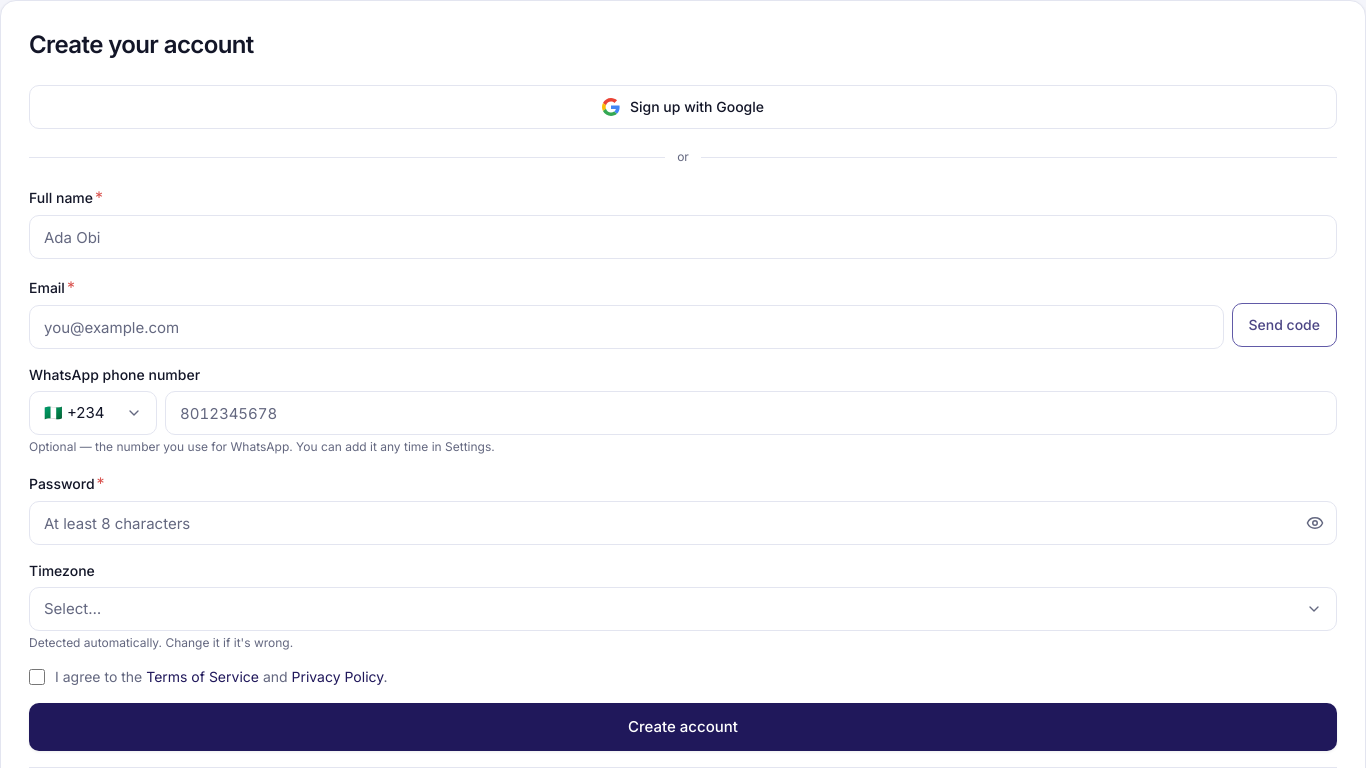
Test case: Register › Google sign-up surfaces an honest error when OAuth isn't configured (no fake sign-up)
This screenshot has width=1366, height=768.
Click the button "Sign up with Google".
click(683, 107)  # box [29,85,1337,129]
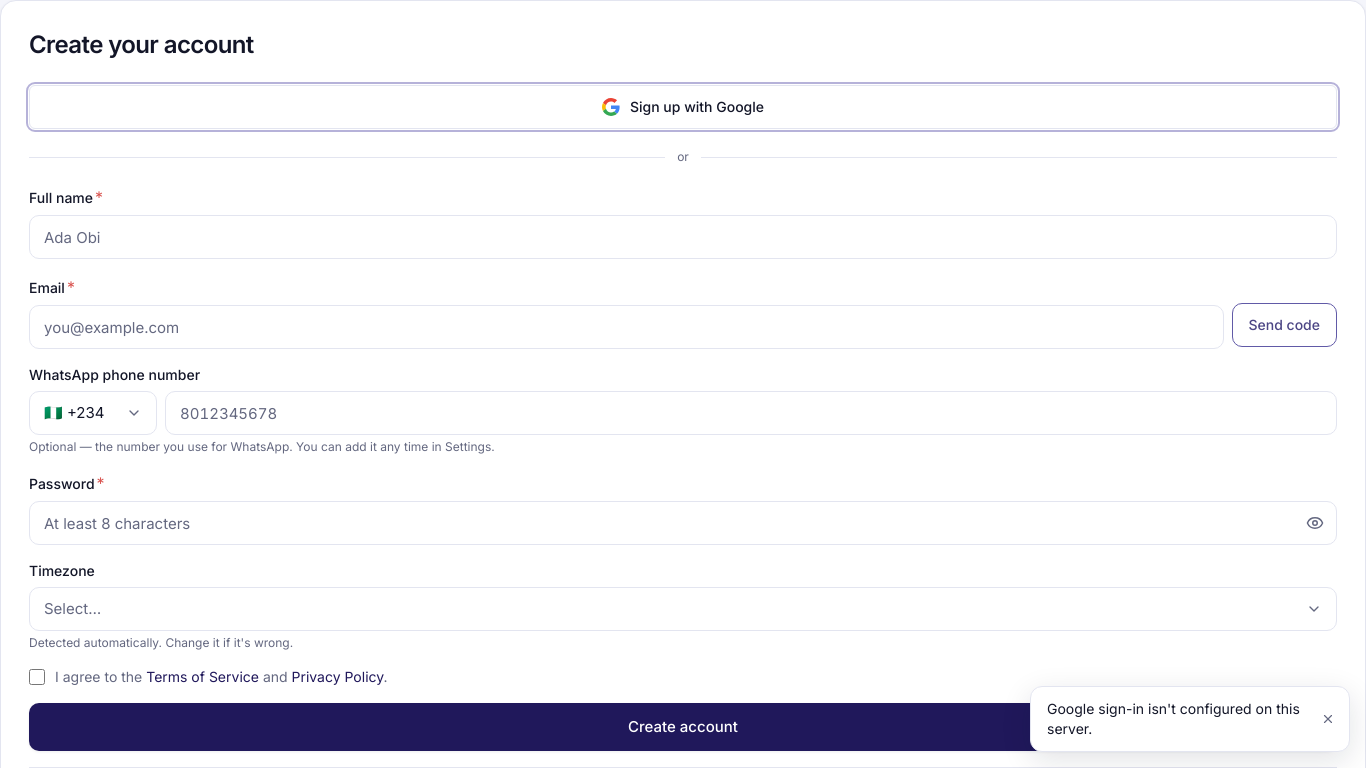
Check: the text "Google sign-in isn't configured on this server." is shown, box [1047,700,1300,737]
